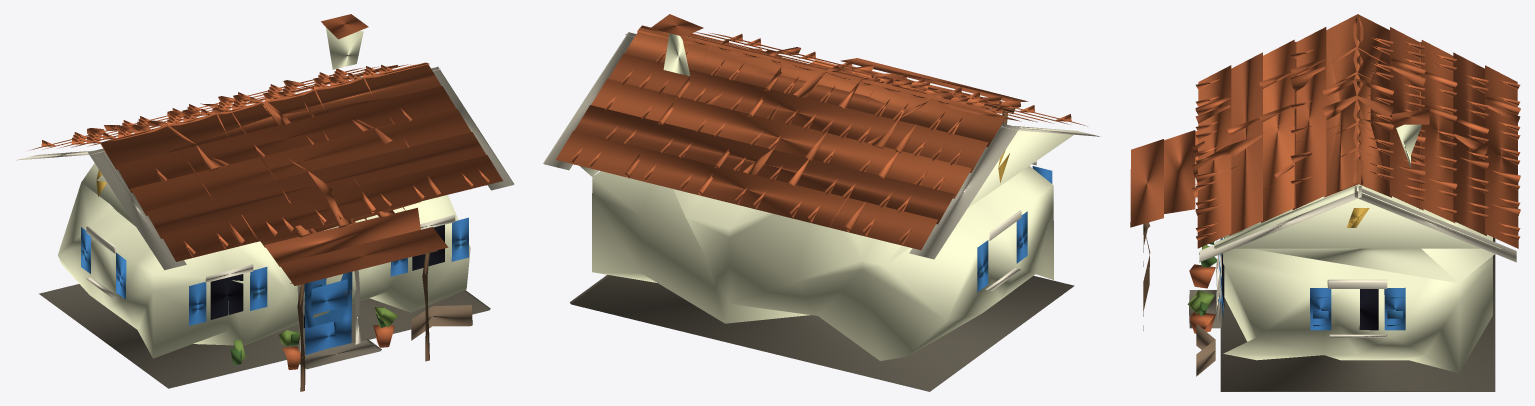
Rendered from home_cottage_t2.glb.
3 views of the same model, side by side, from view 1: azimuth 30°, elevation 25°; view 2: azimuth 150°, elevation 25°; view 3: azimuth 270°, elevation 25° (orthographic). The views are drawn at different scales.
Visible parts, largest first — view 1: terracotta0, plaster, terracotta1, terracotta2, stone_dark, azure_wood, cream, dark, wood, stone, wood_dark, terracotta (+1 smaller); view 2: plaster, terracotta0, terracotta1, stone_dark, terracotta2, cream, azure_wood; view 3: plaster, terracotta1, terracotta0, terracotta2, stone_dark, cream, azure_wood, dark, terracotta, wood, stone, wood_dark (+1 smaller).
Boxes of the visible parts, x1=… form: terracotta0: x1=29, y1=14, x2=502, y2=285; plaster: x1=58, y1=27, x2=470, y2=358; terracotta1: x1=42, y1=62, x2=486, y2=266; terracotta2: x1=59, y1=65, x2=473, y2=249; stone_dark: x1=39, y1=284, x2=490, y2=388; azure_wood: x1=81, y1=217, x2=468, y2=354; cream: x1=16, y1=66, x2=514, y2=352; dark: x1=210, y1=224, x2=444, y2=327; wood: x1=411, y1=305, x2=472, y2=340; stone: x1=299, y1=338, x2=381, y2=369; wood_dark: x1=290, y1=250, x2=437, y2=391; terracotta: x1=282, y1=325, x2=394, y2=369; plaster: x1=580, y1=33, x2=1078, y2=360; terracotta0: x1=555, y1=14, x2=1087, y2=250; terracotta1: x1=574, y1=25, x2=1070, y2=226; stone_dark: x1=570, y1=275, x2=1074, y2=391; terracotta2: x1=589, y1=33, x2=1053, y2=236; cream: x1=543, y1=32, x2=1099, y2=291; azure_wood: x1=977, y1=166, x2=1052, y2=292; plaster: x1=1214, y1=124, x2=1501, y2=373; terracotta1: x1=1164, y1=14, x2=1520, y2=235; terracotta0: x1=1130, y1=27, x2=1520, y2=248; terracotta2: x1=1195, y1=36, x2=1520, y2=231; stone_dark: x1=1220, y1=237, x2=1495, y2=391; cream: x1=1199, y1=185, x2=1516, y2=337; azure_wood: x1=1219, y1=237, x2=1405, y2=330; dark: x1=1222, y1=237, x2=1378, y2=330; terracotta: x1=1189, y1=264, x2=1215, y2=333; wood: x1=1196, y1=324, x2=1215, y2=376; stone: x1=1189, y1=290, x2=1222, y2=328; wood_dark: x1=1143, y1=222, x2=1150, y2=330.
Bounding box in the file's own units: 7.29 × 4.66 × 6.65.
